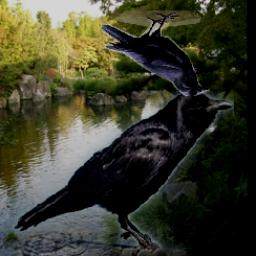Crow: (14, 91, 233, 256), (101, 10, 209, 96)
